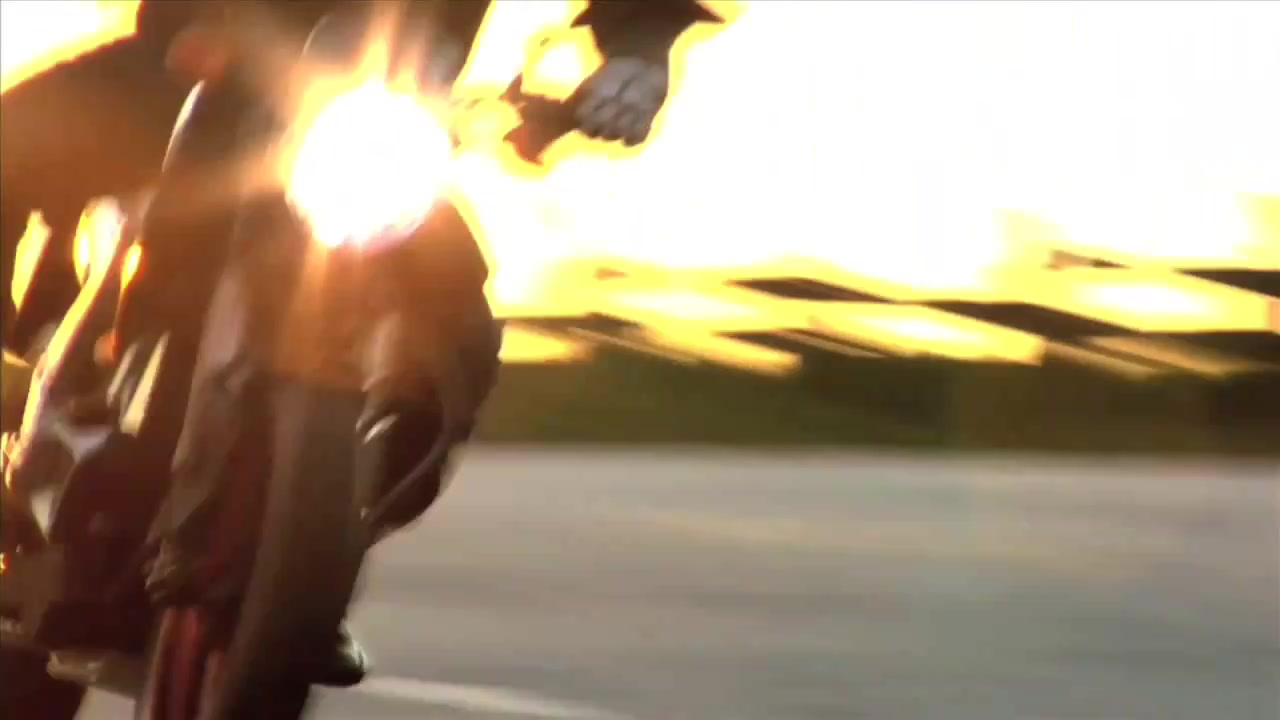motorbike: (1, 18, 576, 720)
